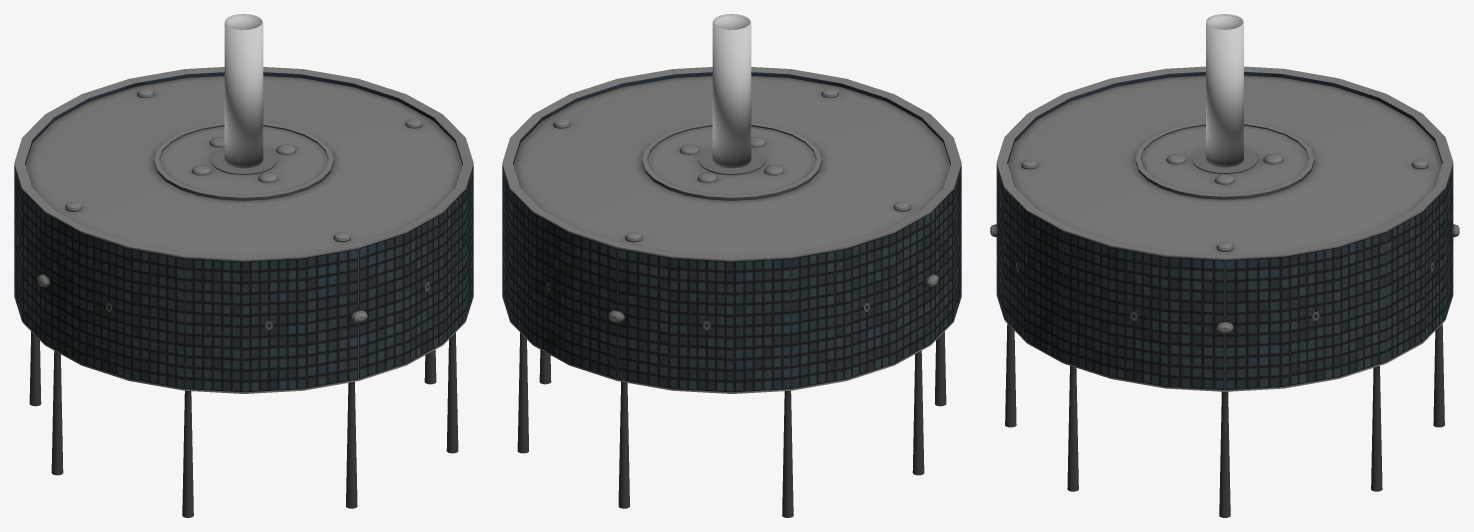
The model's file is Intelsat II_xnormalI.fbx.
The picture shows the model from 3 angles, left to right: view 1: azimuth 30°, elevation 25°; view 2: azimuth 150°, elevation 25°; view 3: azimuth 270°, elevation 25°; orthographic projection.
Visible parts, largest first — view 1: Body, Antenna, Cylinder.009, Cylinder.004, Cylinder.006, Cylinder.008, Cylinder.013; view 2: Body, Antenna, Cylinder.013, Cylinder.002, Cylinder.006, Cylinder.007, Cylinder.009; view 3: Body, Antenna, Cylinder.005, Cylinder.008, Cylinder.007, Cylinder.004, Cylinder.002.
Part boxes in pixels (box(x1,y1,x2,y2)): Body: box(14, 67, 473, 393); Antenna: box(224, 14, 263, 168); Cylinder.009: box(182, 390, 193, 517); Cylinder.004: box(346, 381, 357, 508); Cylinder.006: box(51, 351, 63, 475); Cylinder.008: box(446, 332, 458, 453); Cylinder.013: box(29, 331, 41, 406); Body: box(502, 67, 961, 393); Antenna: box(712, 14, 751, 168); Cylinder.013: box(782, 390, 793, 517); Cylinder.002: box(618, 382, 629, 508); Cylinder.006: box(912, 351, 924, 475); Cylinder.007: box(517, 332, 528, 453); Cylinder.009: box(935, 331, 946, 406); Body: box(996, 66, 1453, 391); Antenna: box(1206, 14, 1243, 167); Cylinder.005: box(1219, 391, 1230, 517); Cylinder.008: box(1067, 366, 1078, 491); Cylinder.007: box(1371, 366, 1382, 491); Cylinder.004: box(1005, 324, 1016, 427); Cylinder.002: box(1433, 324, 1444, 427).
Bounding box in the file's own units: 89.97 × 85.24 × 89.97.
Materials: 1 (1 with a texture image).
